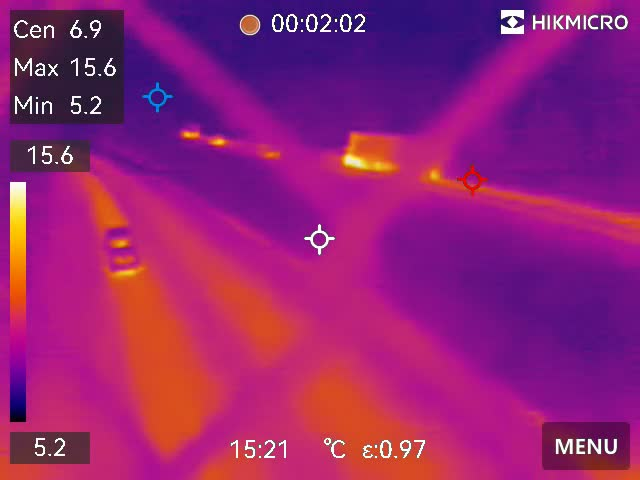heavyTruck: (344, 125, 446, 177)
